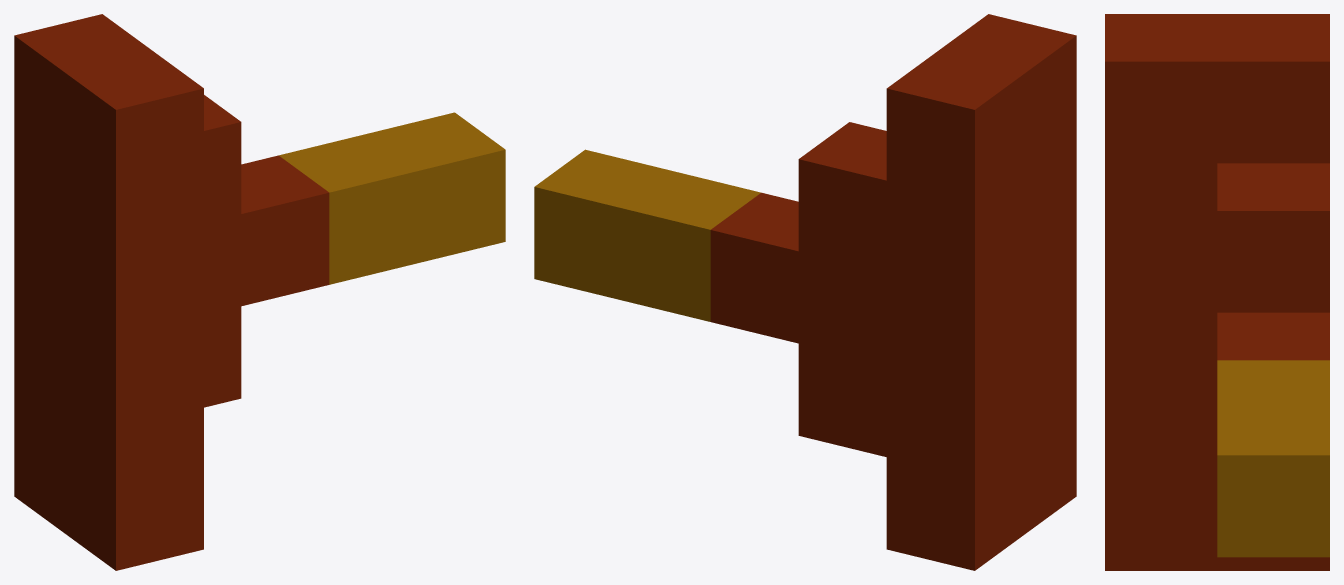
File: bear2-7.obj
The picture shows the model from 3 angles, left to right: view 1: azimuth 30°, elevation 25°; view 2: azimuth 150°, elevation 25°; view 3: azimuth 270°, elevation 25°; orthographic projection. The views are drawn at different scales.
Size of the model in its own units: 0.5 by 0.5 by 0.2.
1 material, 1 textured.
